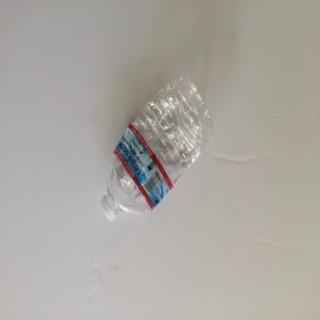Plastic-bottle: (97, 74, 216, 227)
